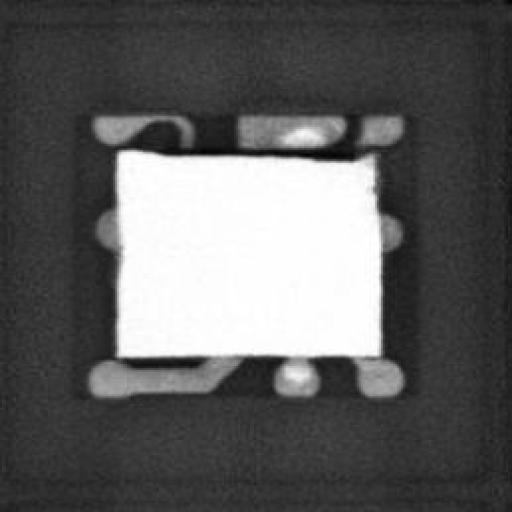DIE_BROKEN: (145, 140, 367, 162)
